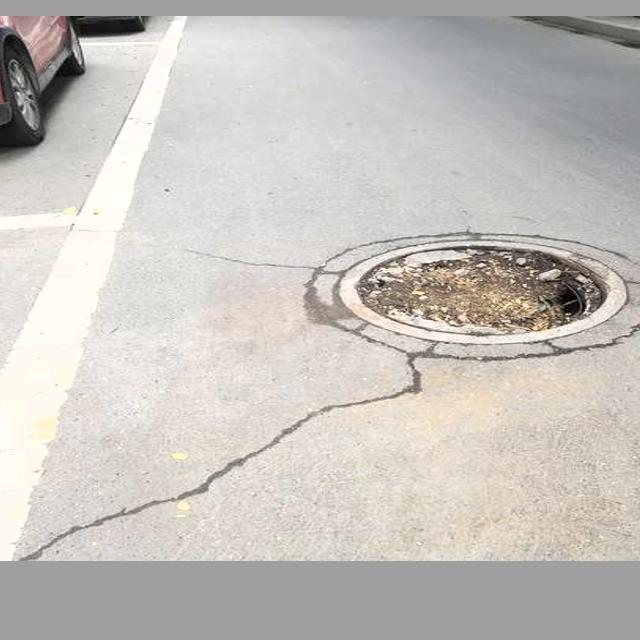broke: (296, 213, 640, 369)
